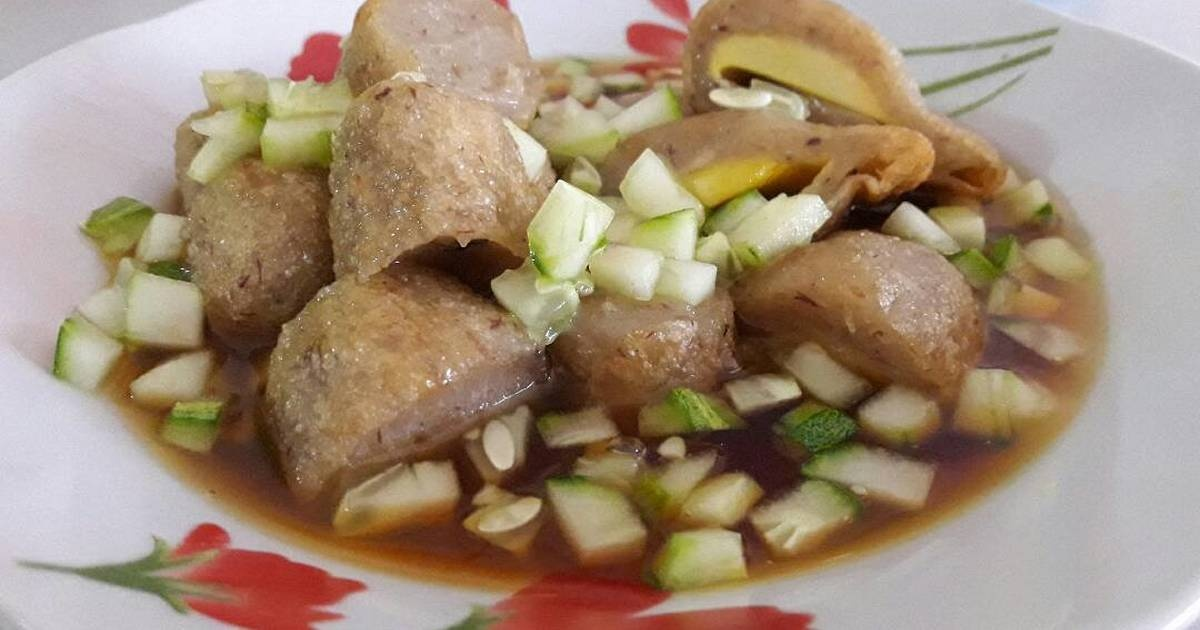pempek: (177, 2, 1006, 511)
